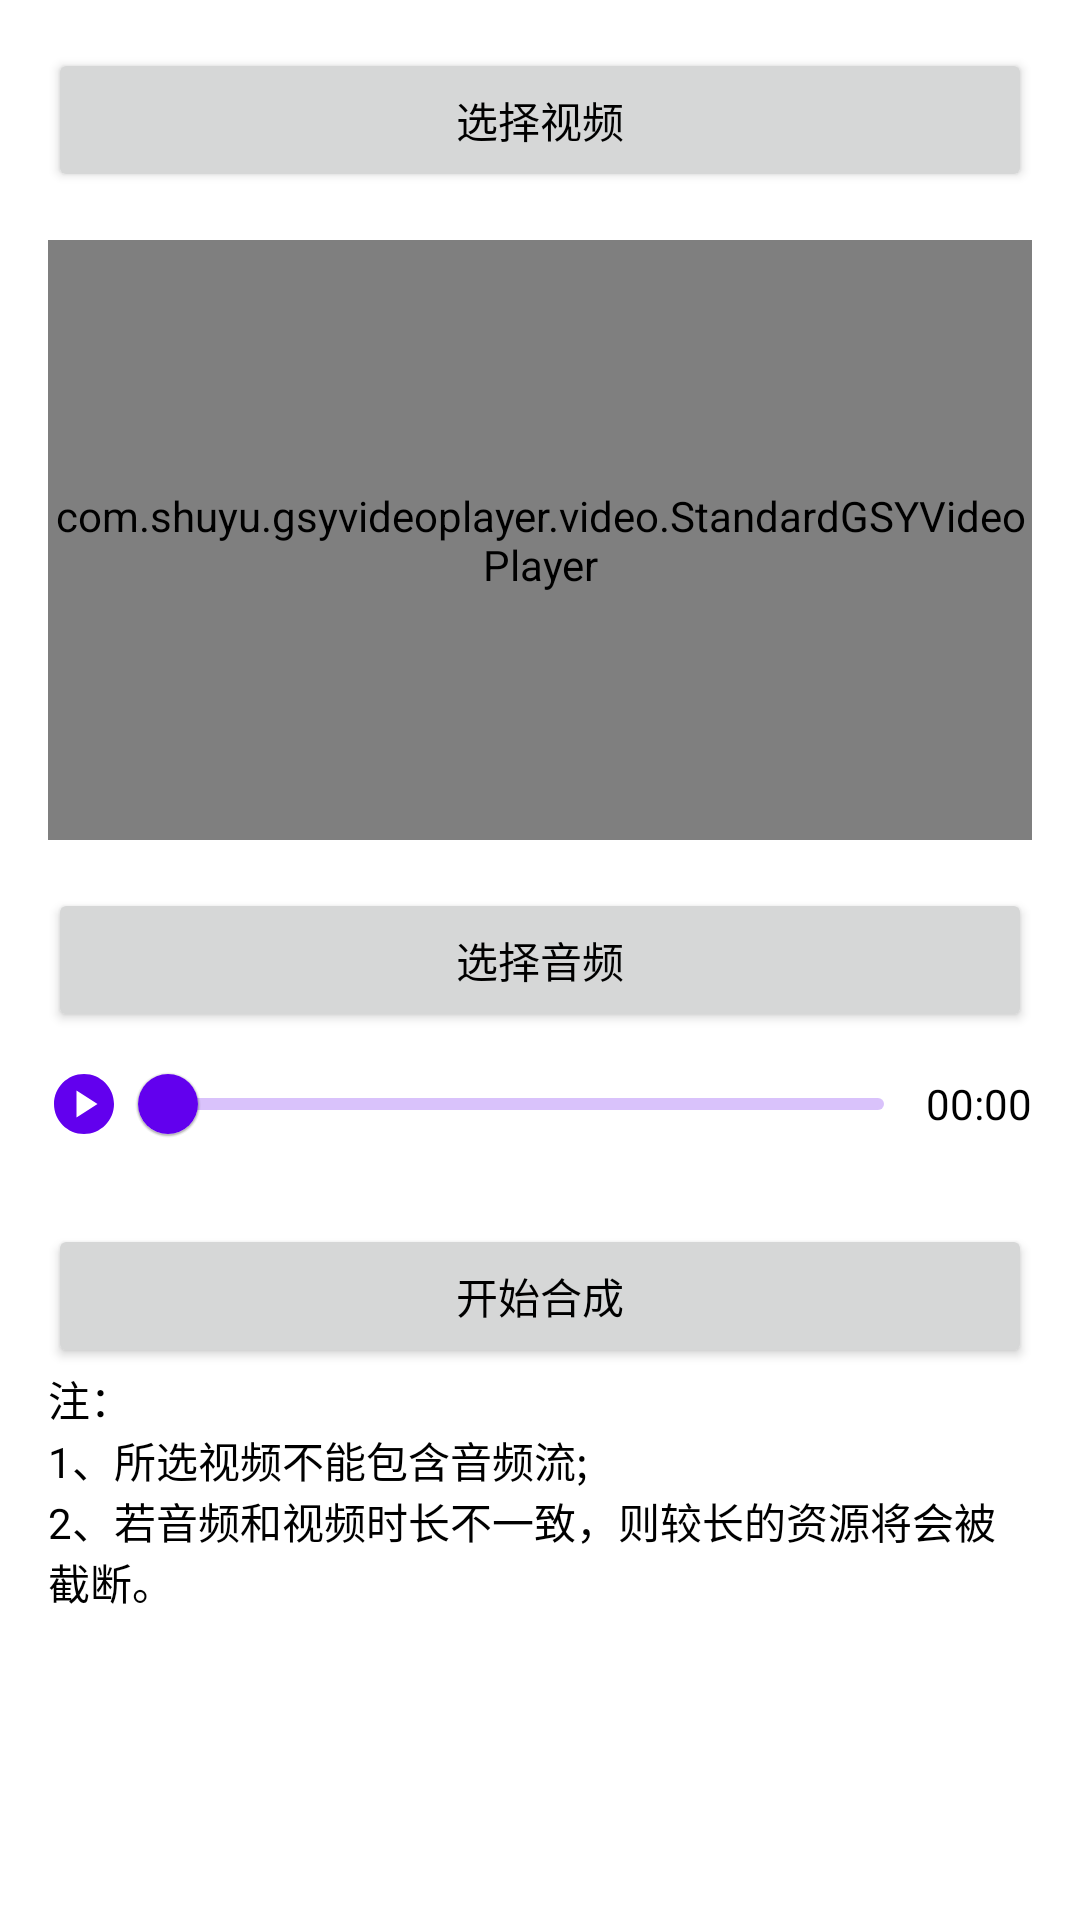

Icons on this 1080px×1920px Android screen, each with the point to tap as point (x, y):
播放音频: point (84, 1104)
